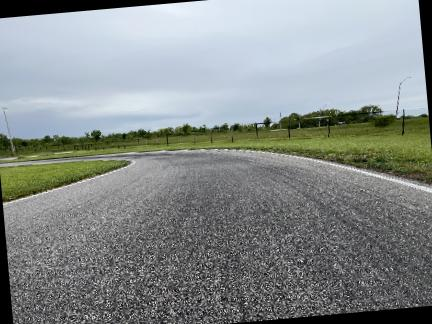Grass: (55, 133, 431, 182), (0, 160, 128, 202)
Lane: (0, 150, 431, 323)
